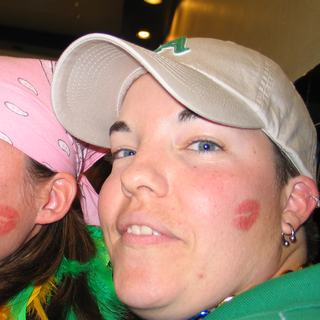eye: (180, 134, 231, 160), (110, 141, 142, 164)
